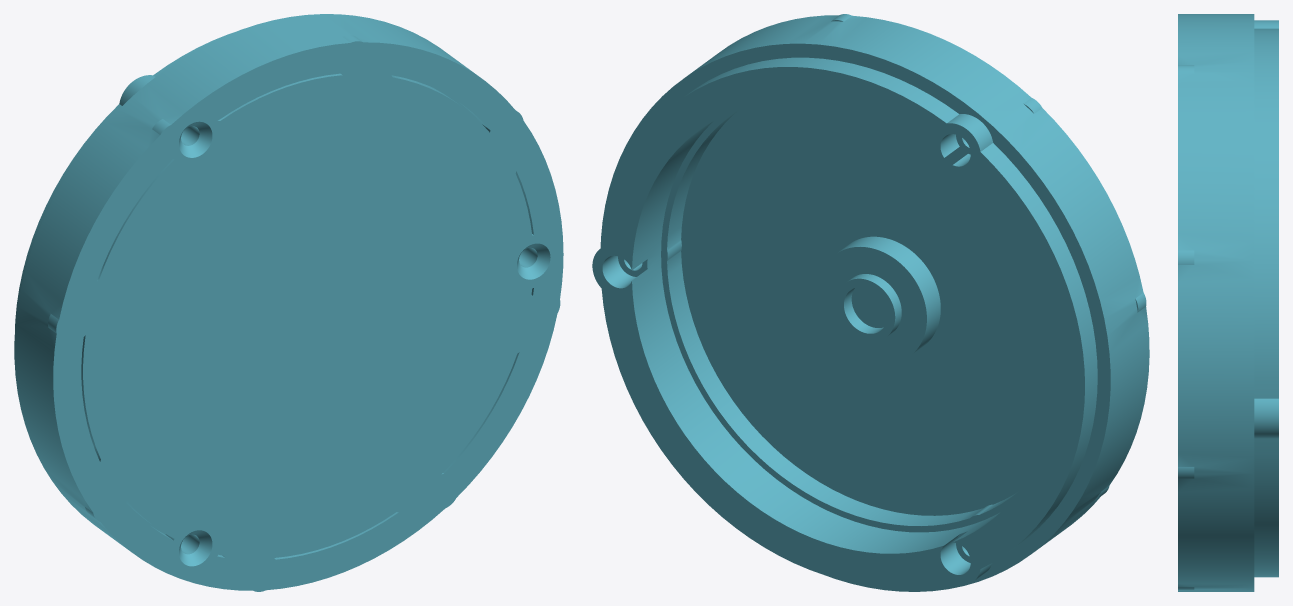
The model's file is Cap_turbine_wheel.glb.
The picture shows the model from 3 angles, left to right: view 1: azimuth 30°, elevation 25°; view 2: azimuth 150°, elevation 25°; view 3: azimuth 270°, elevation 25°; orthographic projection.
Visible parts, largest first — view 1: Cap_turbine_wheel_0; view 2: Cap_turbine_wheel_0; view 3: Cap_turbine_wheel_0.
Boxes of the visible parts, x1,y1,x2,y2 form: Cap_turbine_wheel_0: (14,14,563,591); Cap_turbine_wheel_0: (592,14,1149,591); Cap_turbine_wheel_0: (1178,14,1278,591).
Size of the model in its own units: 60.7 by 60.69 by 10.6.
